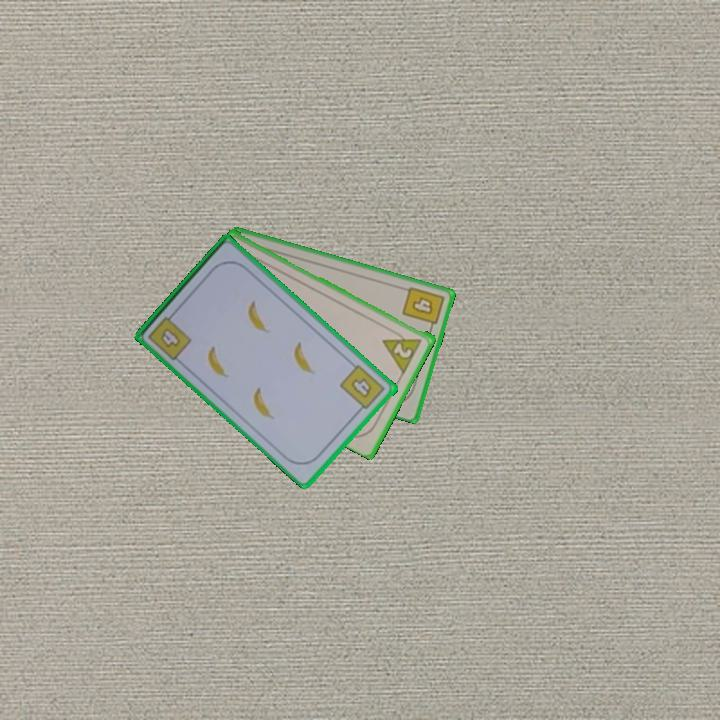2p: (379, 326, 425, 375)
4b: (336, 361, 389, 416), (399, 283, 447, 334), (157, 324, 184, 351)
